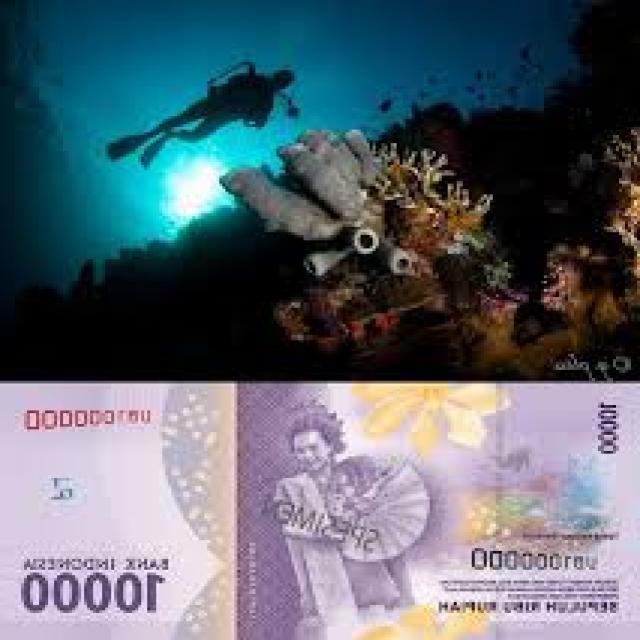sepuluh ribu rupiah: (3, 381, 640, 637)
